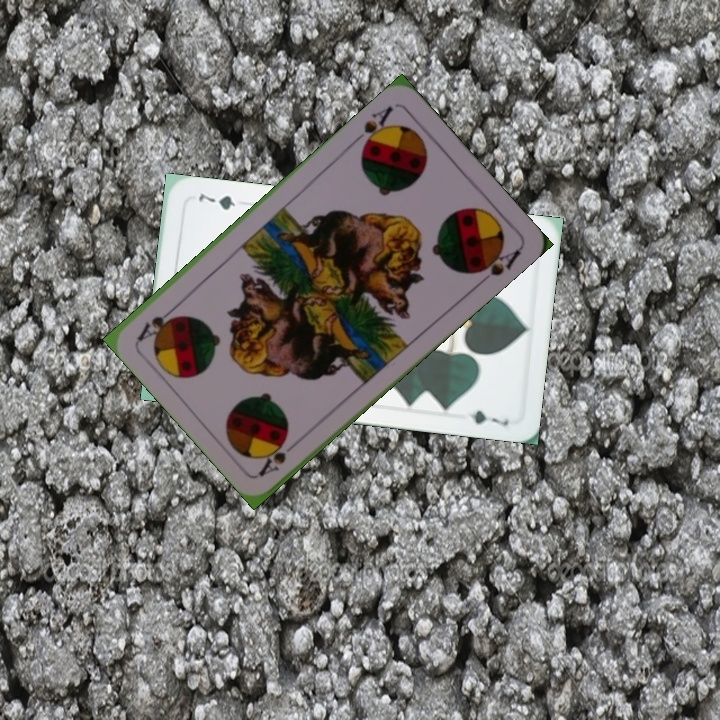SA: (349, 101, 396, 154), (254, 434, 304, 479)
